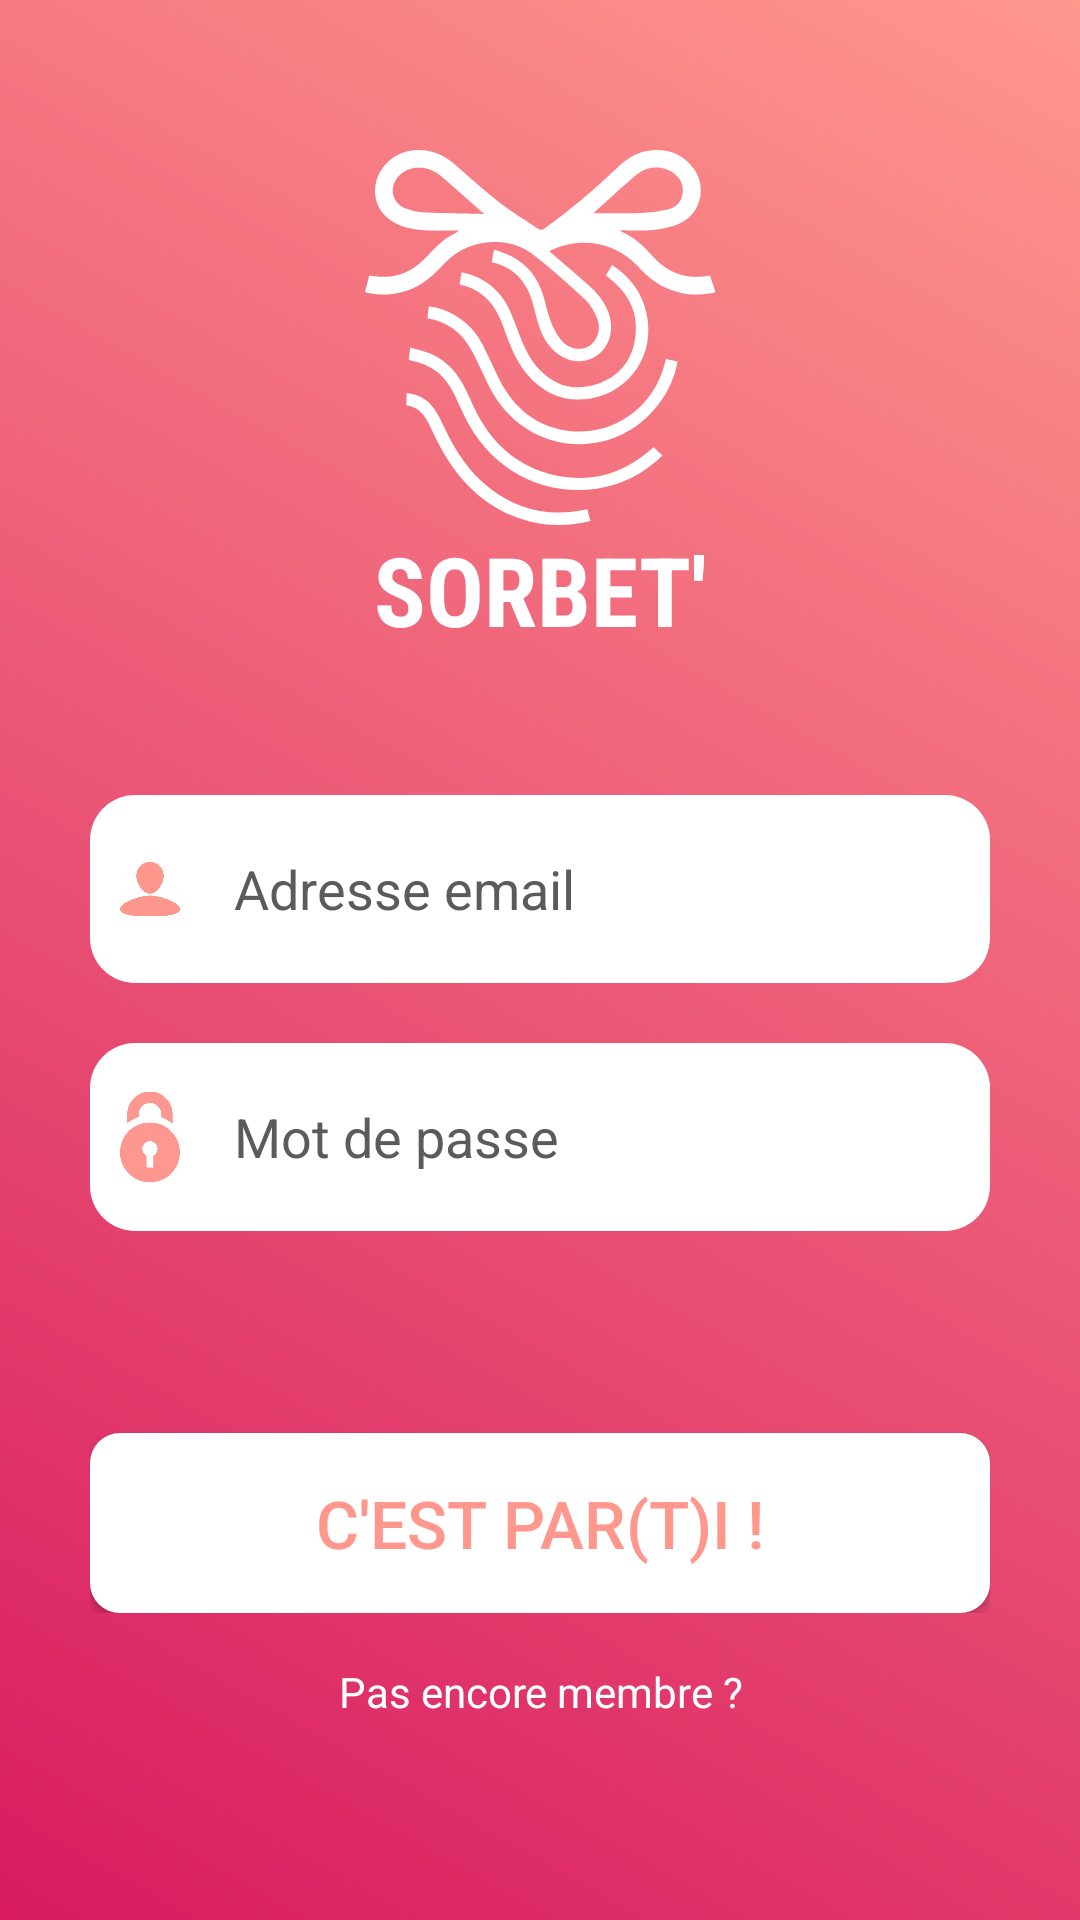

Icons on this 1080w x 1920h Android screen, each with its box as (x1, y1, x2, y2):
lock: (120, 1092, 180, 1182)
picto personn: (120, 862, 180, 916)
